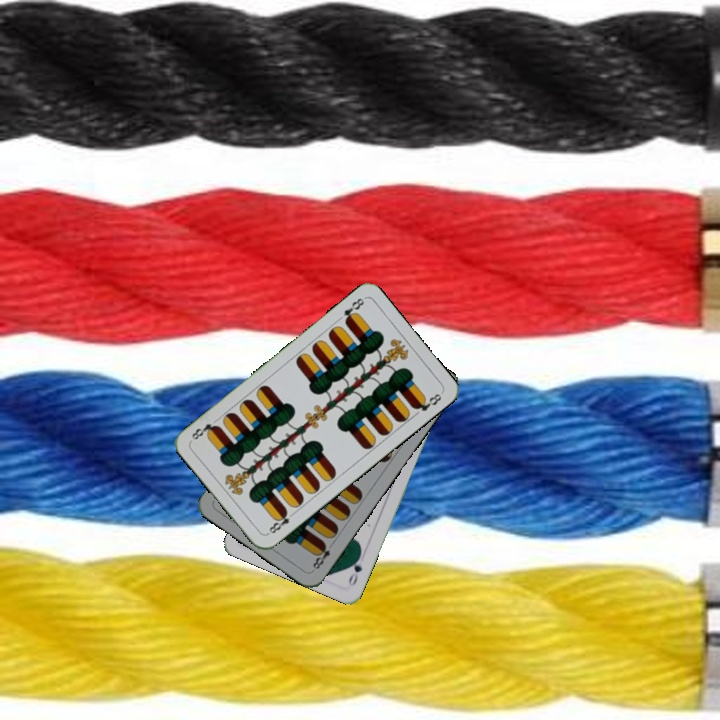E8: (263, 506, 298, 537), (308, 538, 337, 573), (340, 294, 367, 326)
GO: (344, 549, 365, 588)
